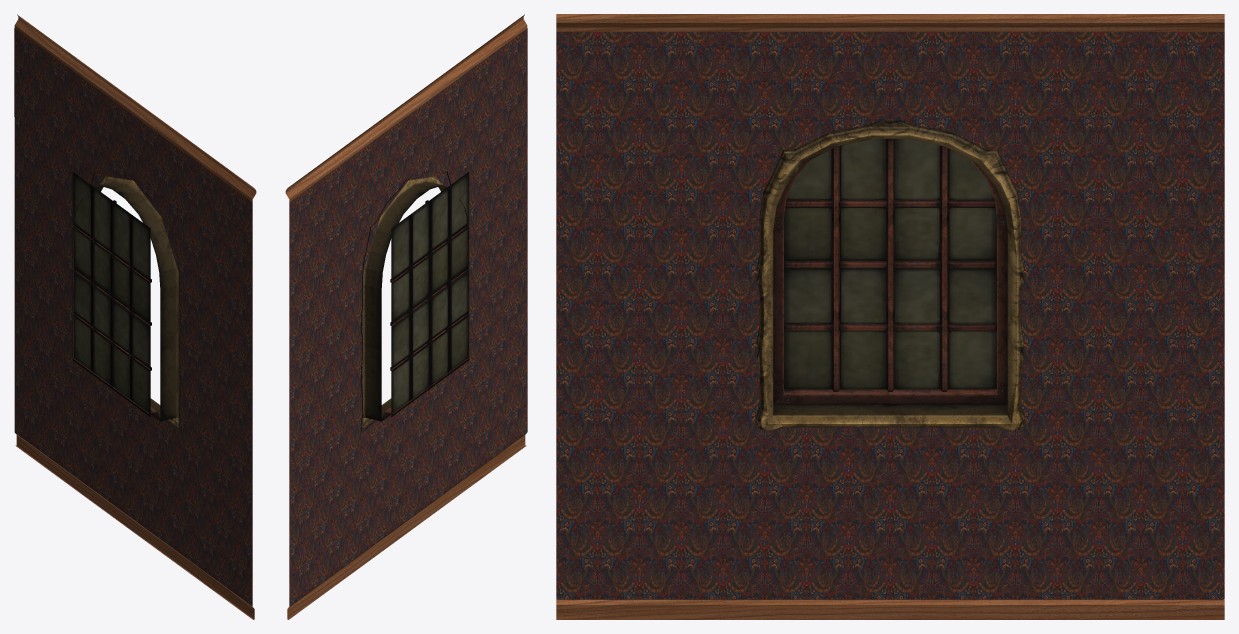
File: flower_power1_small_window.dae
3 renders of one model, left to right at view 1: azimuth 30°, elevation 25°; view 2: azimuth 150°, elevation 25°; view 3: azimuth 270°, elevation 25°, orthographic. The views are drawn at different scales.
Visible parts, largest first — view 1: Plane_003, window02_large_gl_001, window02_large_fr_001; view 2: Plane_003, window02_large_gl_001, window02_large_fr_001; view 3: Plane_003, window02_large_gl_001, window02_large_fr_001.
Part boxes in pixels (bbox=[...]): Plane_003: bbox=[14, 14, 256, 619]; window02_large_gl_001: bbox=[72, 171, 150, 416]; window02_large_fr_001: bbox=[73, 171, 181, 432]; Plane_003: bbox=[285, 14, 527, 619]; window02_large_gl_001: bbox=[391, 171, 469, 416]; window02_large_fr_001: bbox=[360, 171, 468, 432]; Plane_003: bbox=[556, 14, 1224, 619]; window02_large_gl_001: bbox=[784, 139, 996, 389]; window02_large_fr_001: bbox=[755, 120, 1025, 430].
Bounding box in the file's own units: 0.2987 × 4 × 4.
